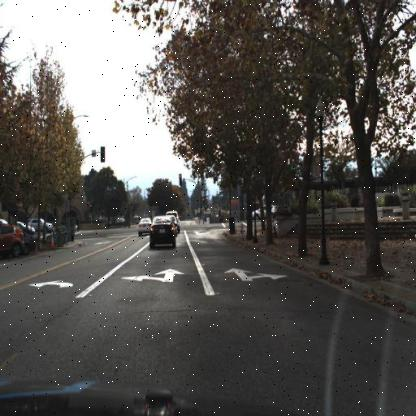car: (148, 212, 178, 251), (0, 221, 27, 260), (15, 221, 39, 258), (250, 200, 280, 223), (1, 226, 23, 256), (26, 216, 55, 236), (30, 219, 54, 237), (250, 207, 277, 223), (136, 216, 154, 236)
trafficLight-Red: (177, 173, 184, 188), (178, 172, 182, 186)
